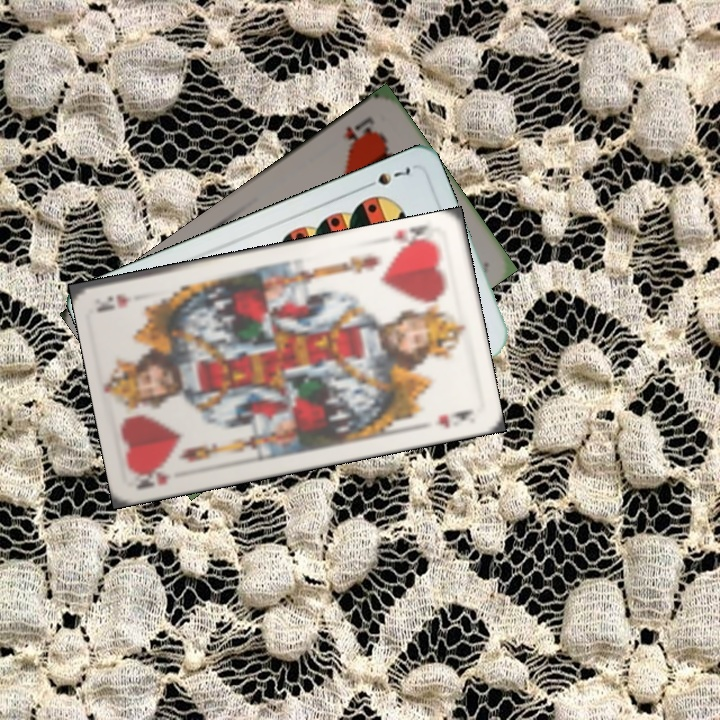HK: (389, 221, 439, 255), (131, 463, 174, 492)
HO: (338, 113, 377, 153)
S7: (359, 163, 414, 192)
